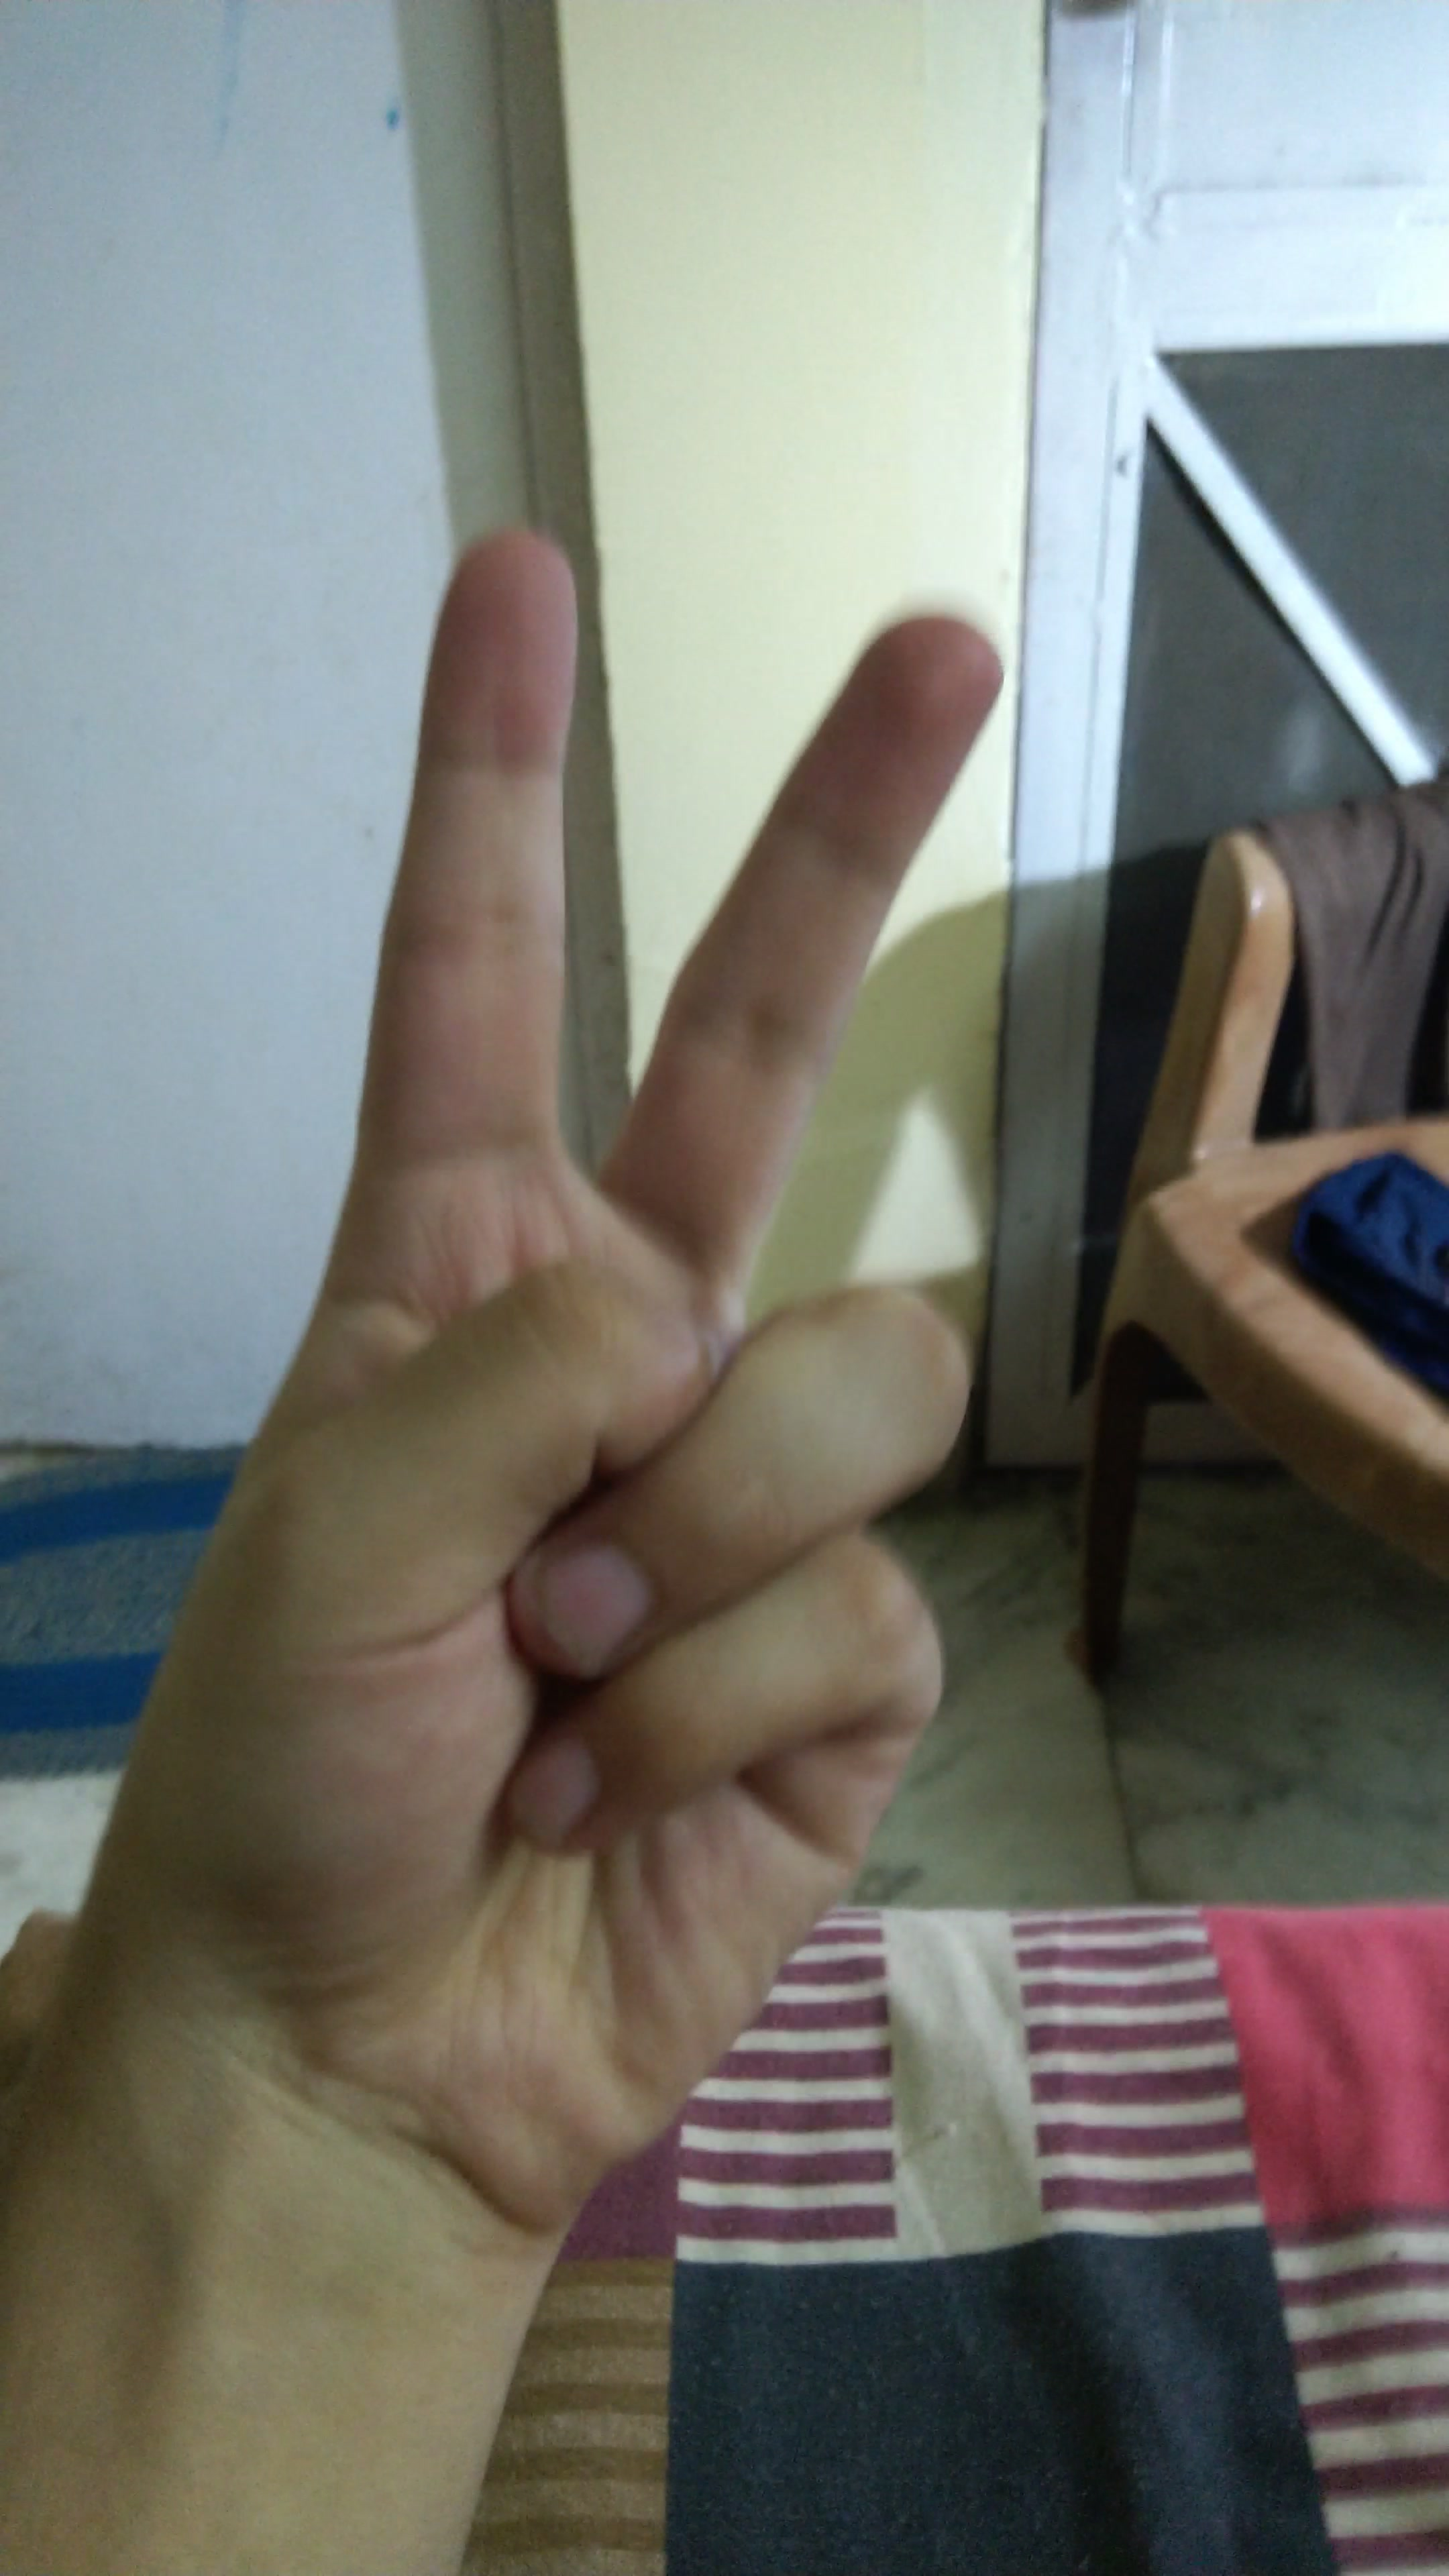hand: (60, 446, 994, 2272)
